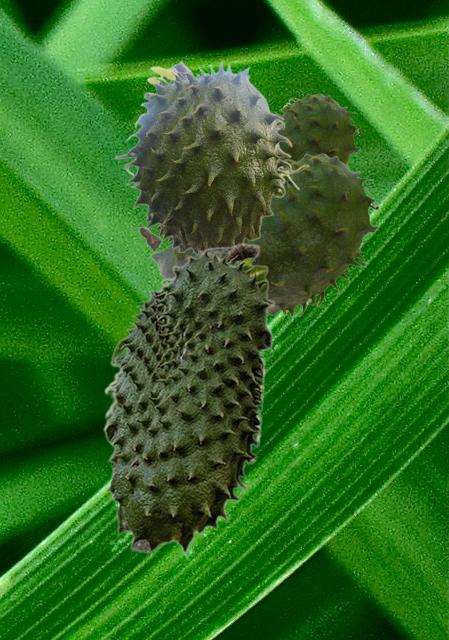guyabano: (102, 242, 274, 553), (138, 153, 378, 318), (114, 58, 309, 255), (272, 93, 360, 167)
